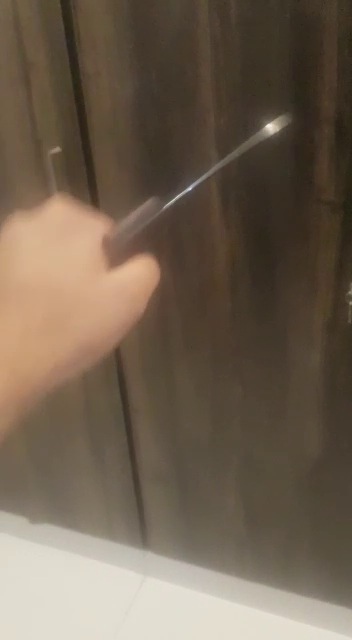knife: (104, 106, 326, 255)
